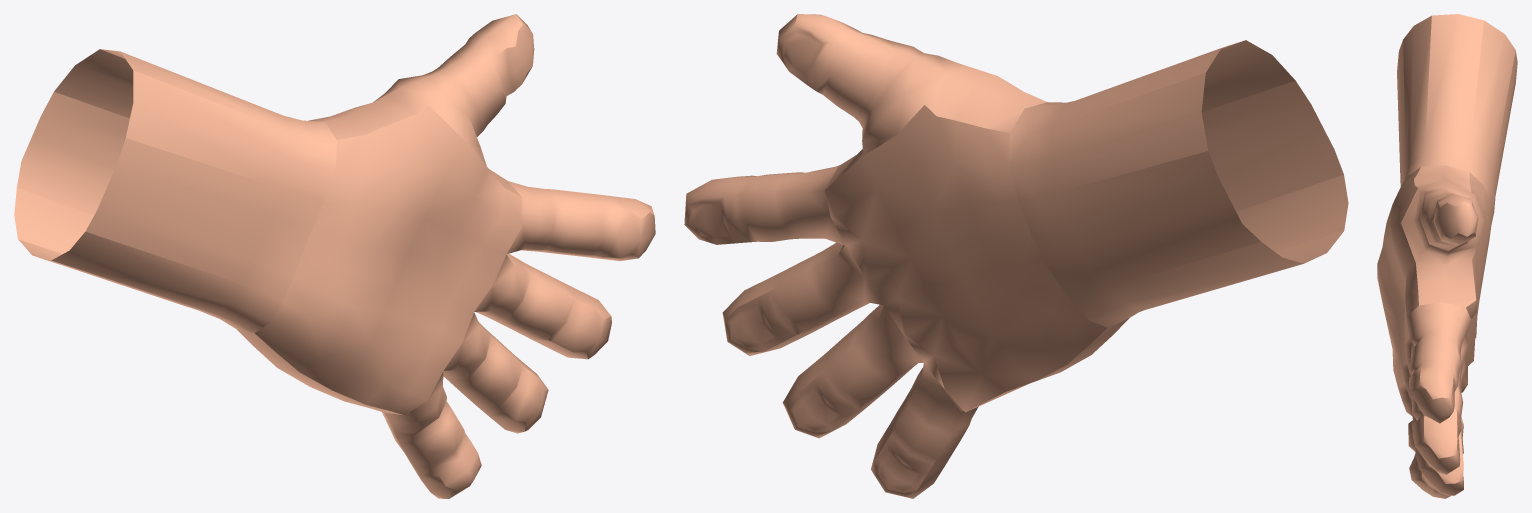
File: Paper.glb
3 renders of one model, left to right at view 1: azimuth 30°, elevation 25°; view 2: azimuth 150°, elevation 25°; view 3: azimuth 270°, elevation 25°, orthographic. The views are drawn at different scales.
Visible parts, largest first — view 1: 25.001; view 2: 25.001; view 3: 25.001.
Part boxes in pixels (x1,y1,x2,y2): 25.001: (14,14,655,498); 25.001: (684,14,1348,498); 25.001: (1377,14,1517,498).
Bounding box in the file's own units: 44.27 × 35.26 × 12.04.
